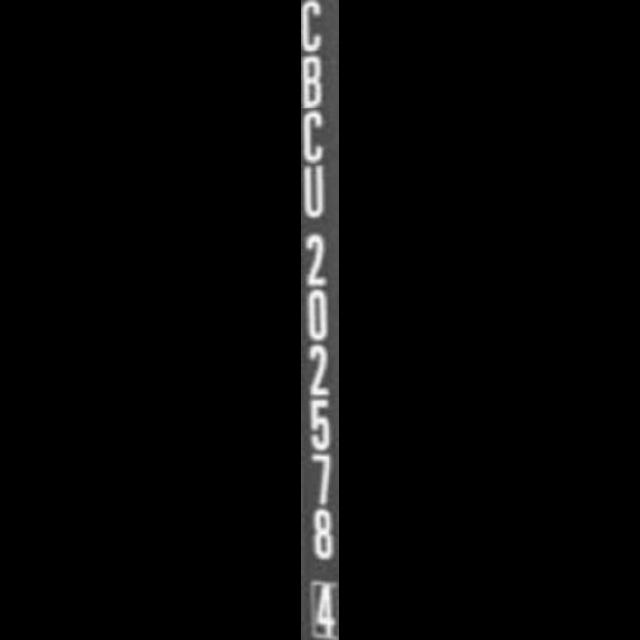0: (302, 286, 332, 340)
2: (301, 340, 339, 400), (302, 226, 331, 286)
4: (304, 574, 338, 640)
6: (301, 394, 339, 446)
7: (301, 444, 339, 511)
8: (301, 508, 339, 562)
b: (302, 51, 328, 109)
c: (301, 106, 331, 162), (301, 0, 327, 50)
u: (302, 158, 338, 222)
